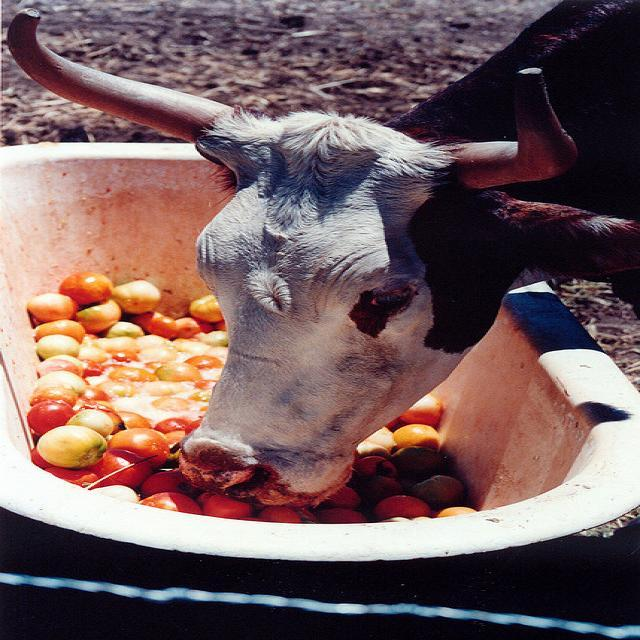cow: (3, 0, 638, 507)
